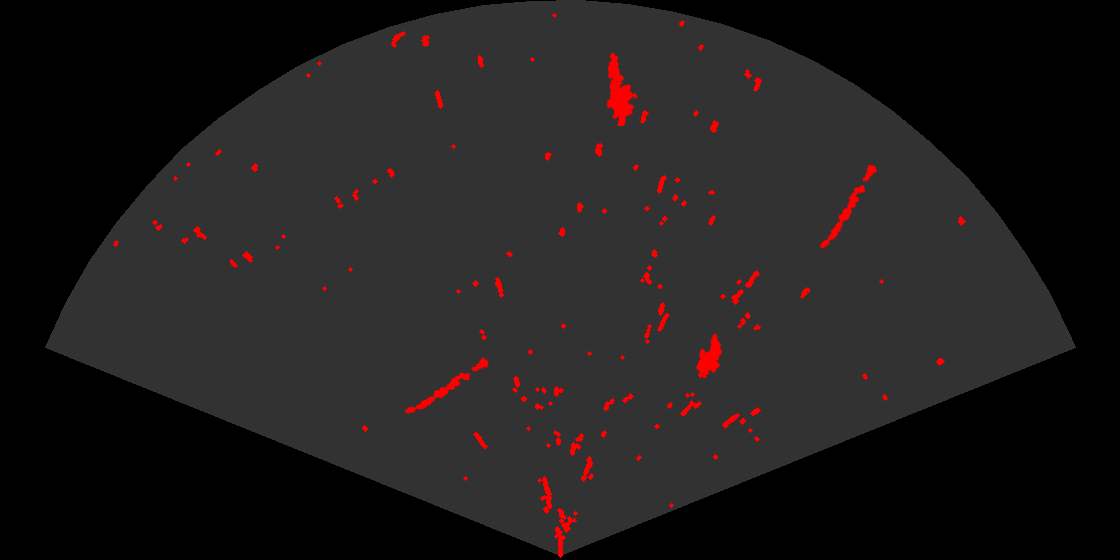AUV: (695, 332, 724, 380)
chain: (818, 163, 879, 250), (403, 356, 490, 415)
frogman: (605, 51, 639, 126)
